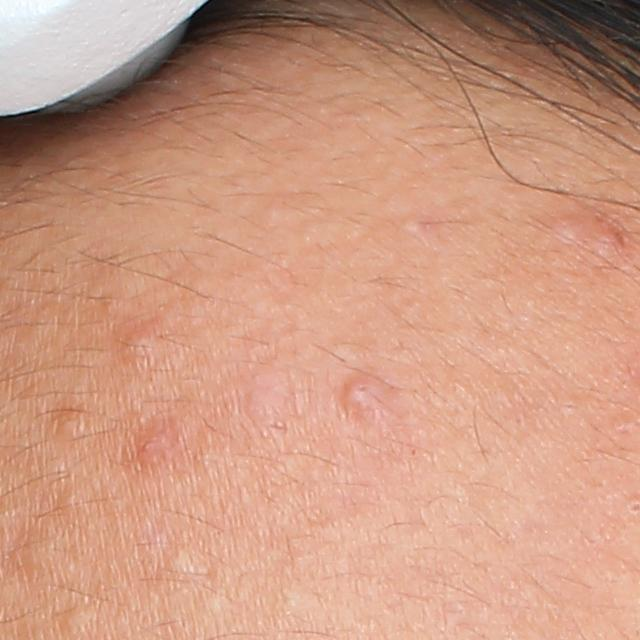comedo: (8, 532, 68, 572), (159, 540, 196, 576), (55, 407, 89, 436), (58, 608, 93, 635), (348, 376, 379, 405)
papule: (113, 316, 176, 368), (586, 227, 627, 263)
